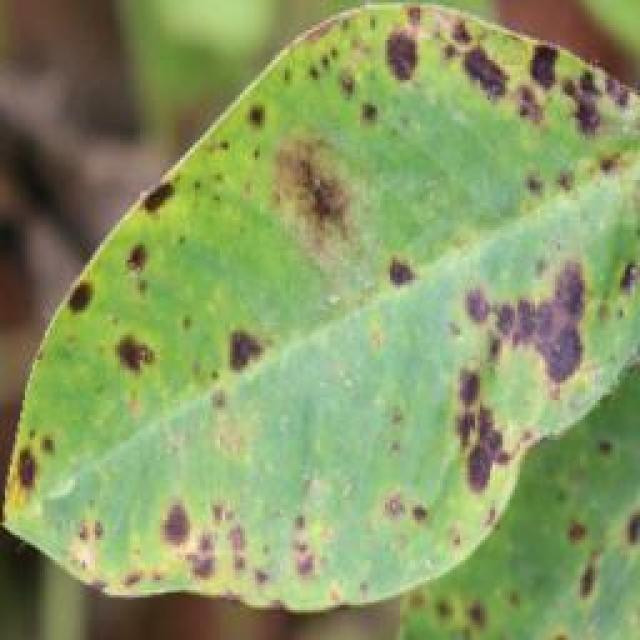Yellowish: (0, 18, 640, 623)
